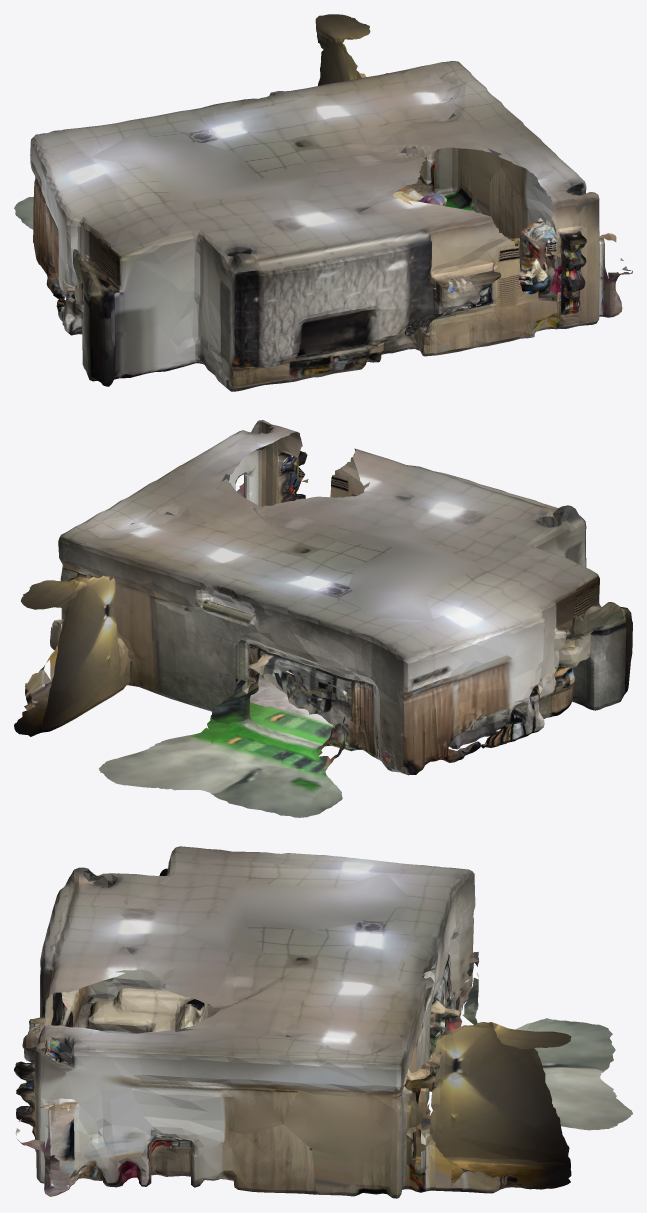
File: Scaniverse_2026_01_18_203135.obj
3 views of the same model, one above another, from view 1: azimuth 30°, elevation 25°; view 2: azimuth 150°, elevation 25°; view 3: azimuth 270°, elevation 25° (orthographic). The views are drawn at different scales.
Visible parts, largest first — view 1: mesh; view 2: mesh; view 3: mesh.
Part boxes in pixels (box(x1,y1,x2,y2)): mesh: box(14, 14, 632, 391); mesh: box(14, 420, 632, 817); mesh: box(14, 846, 632, 1198).
Size of the model in its own units: 11.93 by 3.39 by 12.85.
1 material, 1 textured.
